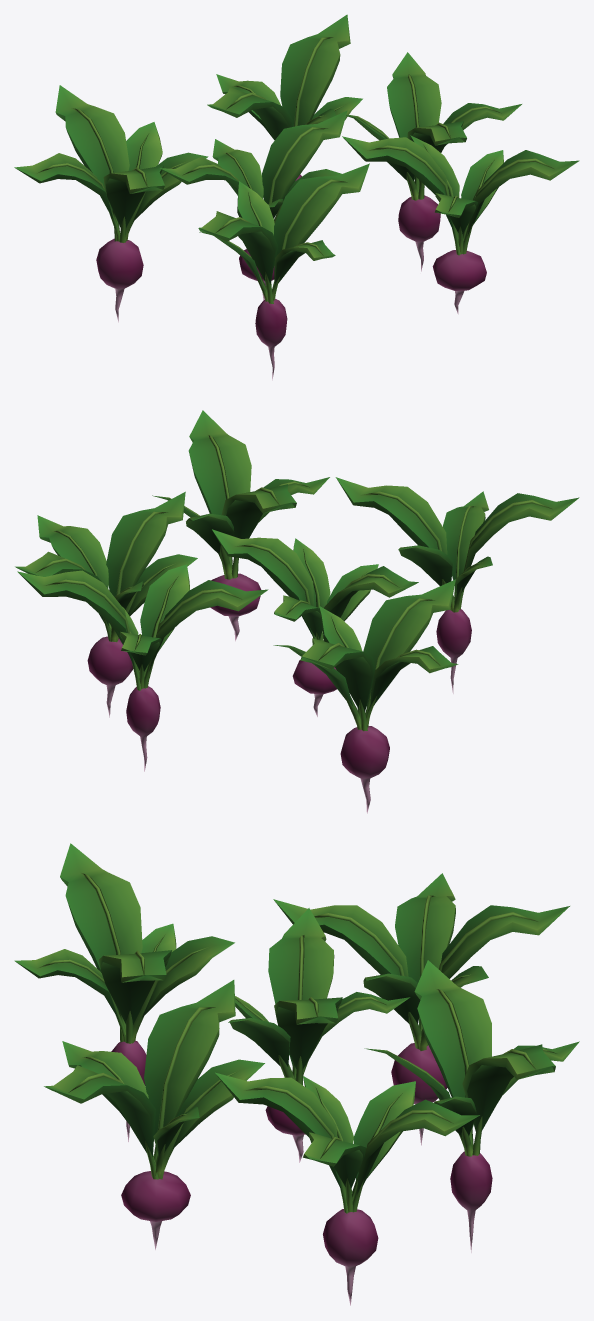
File: SM_Plant_Turnip_Lv4.fbx
The picture shows the model from 3 angles, top to bottom: view 1: azimuth 30°, elevation 25°; view 2: azimuth 150°, elevation 25°; view 3: azimuth 270°, elevation 25°; orthographic projection. The views are drawn at different scales.
Parts seen in each view (by area): view 1: SM_Plant_Turnip_Lv4; view 2: SM_Plant_Turnip_Lv4; view 3: SM_Plant_Turnip_Lv4.
Part boxes in pixels (x1,y1,x2,y2): SM_Plant_Turnip_Lv4: (14,14,579,380); SM_Plant_Turnip_Lv4: (15,410,579,813); SM_Plant_Turnip_Lv4: (14,843,579,1305).
Bounding box in the file's own units: 93.28 × 41.98 × 80.9.
